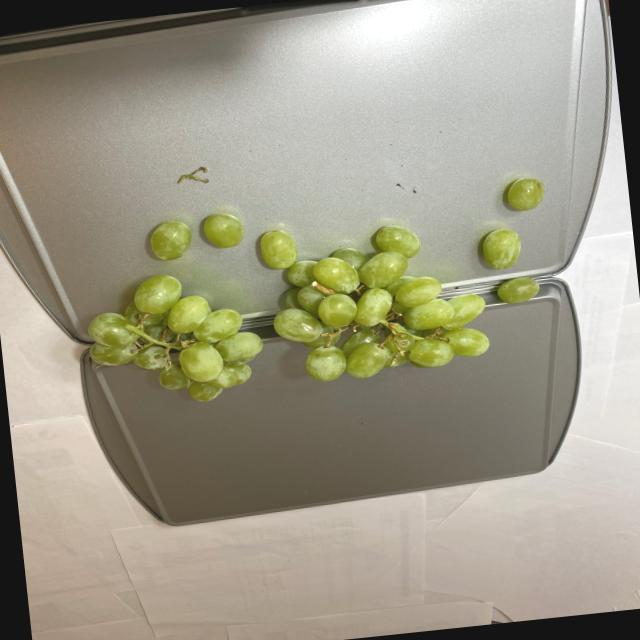grapes: (76, 170, 563, 411)
